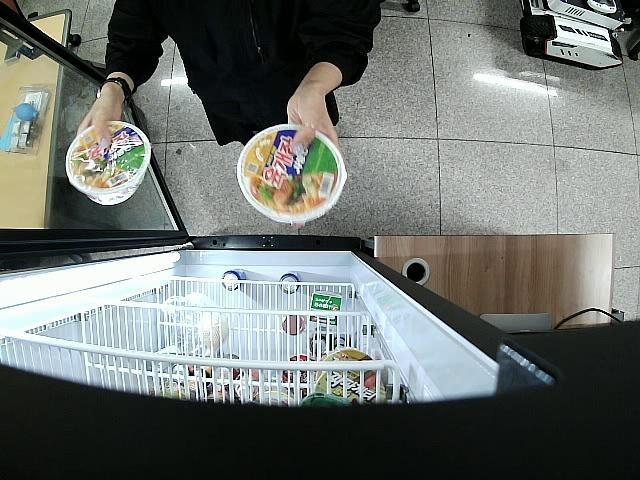09_yukGaeJang: (236, 124, 346, 222), (66, 123, 150, 206)
